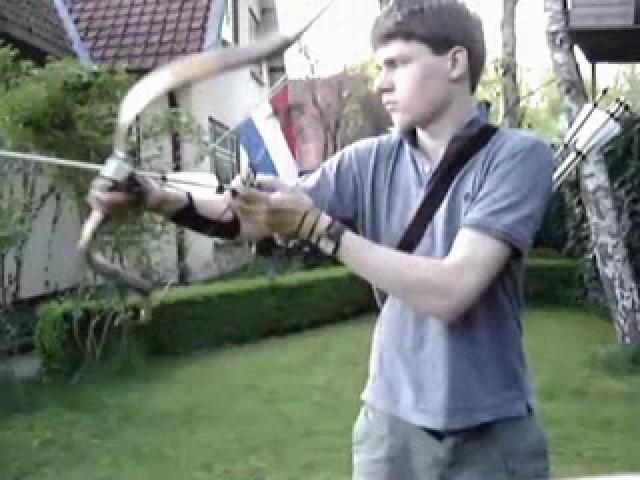P: (90, 4, 556, 474)
